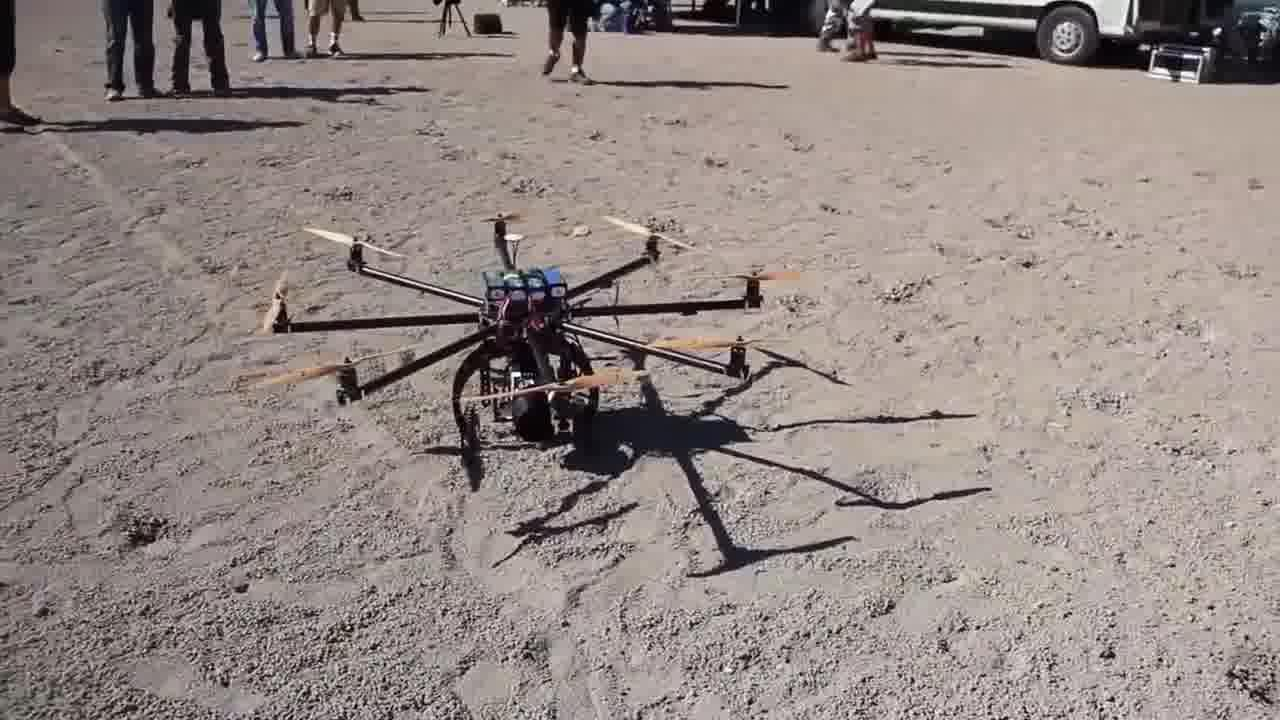drone: (256, 185, 777, 469)
